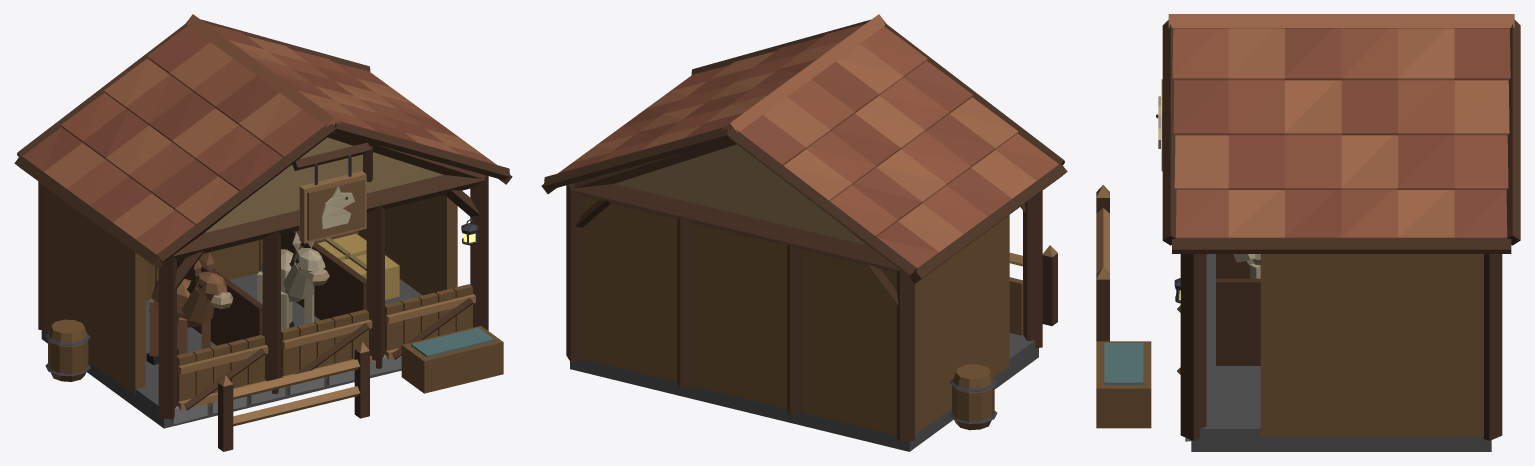
The model's file is town_stable_a.glb.
3 views of the same model, side by side, from view 1: azimuth 30°, elevation 25°; view 2: azimuth 150°, elevation 25°; view 3: azimuth 270°, elevation 25° (orthographic). The views are drawn at different scales.
Visible parts, largest first — view 1: town_stable_a; view 2: town_stable_a; view 3: town_stable_a.
Boxes of the visible parts, x1,y1,x2,y2 form: town_stable_a: (14, 14, 512, 451); town_stable_a: (541, 14, 1067, 451); town_stable_a: (1096, 14, 1520, 451).
Bounding box in the file's own units: 4.66 × 3.29 × 3.7.
